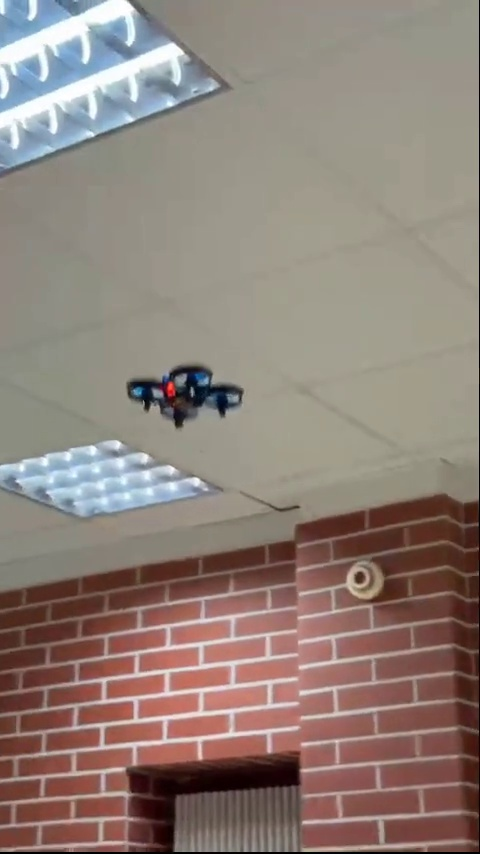drone: (127, 362, 243, 434)
